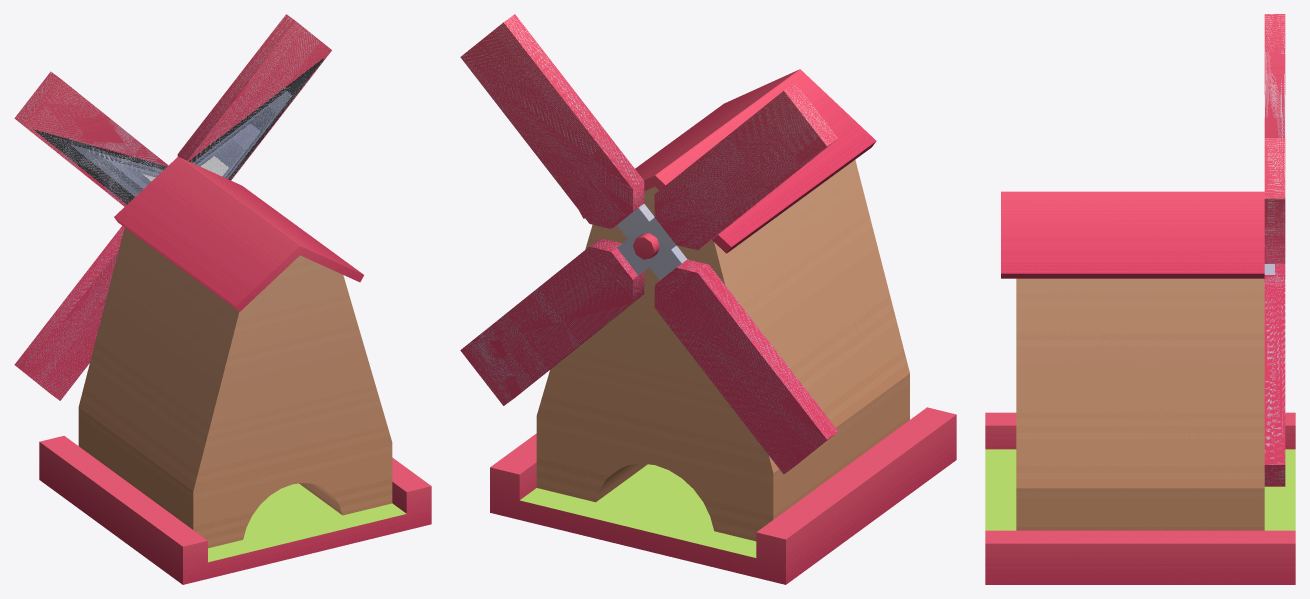
Rendered from windmill.glb.
3 renders of one model, left to right at view 1: azimuth 30°, elevation 25°; view 2: azimuth 150°, elevation 25°; view 3: azimuth 270°, elevation 25°, orthographic. The views are drawn at different scales.
Visible parts, largest first — view 1: windmill, blades; view 2: windmill, blades; view 3: windmill, blades.
Boxes of the visible parts, x1,y1,x2,y2 form: windmill: [39, 156, 431, 584]; blades: [14, 14, 331, 400]; windmill: [490, 69, 956, 584]; blades: [460, 14, 838, 474]; windmill: [985, 191, 1295, 584]; blades: [1264, 14, 1285, 486].
Size of the model in its own units: 1.24 by 1.58 by 0.9999.
1 material, 1 textured.
